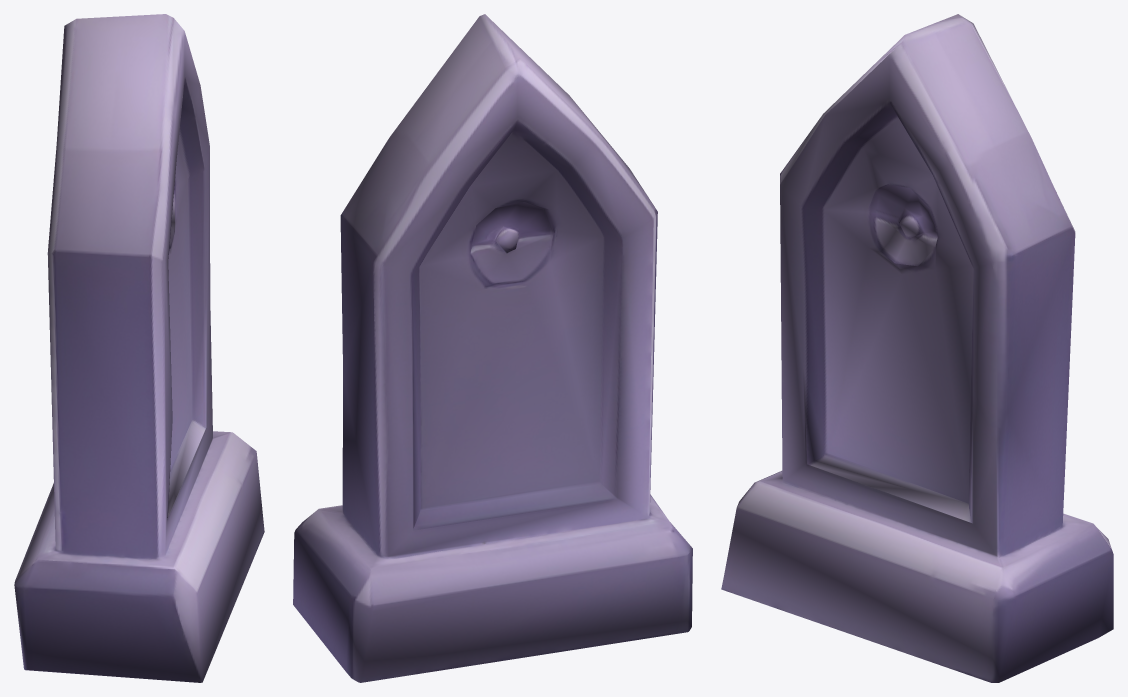
The picture shows the model from 3 angles, left to right: view 1: azimuth 30°, elevation 25°; view 2: azimuth 150°, elevation 25°; view 3: azimuth 270°, elevation 25°; orthographic projection.
Parts seen in each view (by area): view 1: tower-tomb-2; view 2: tower-tomb-2; view 3: tower-tomb-2.
Boxes of the visible parts, bbox=[...] form: tower-tomb-2: bbox=[14, 14, 264, 682]; tower-tomb-2: bbox=[293, 14, 692, 682]; tower-tomb-2: bbox=[721, 14, 1113, 682].
Size of the model in its own units: 0.2798 by 0.4971 by 0.3014.
1 material, 1 textured.
